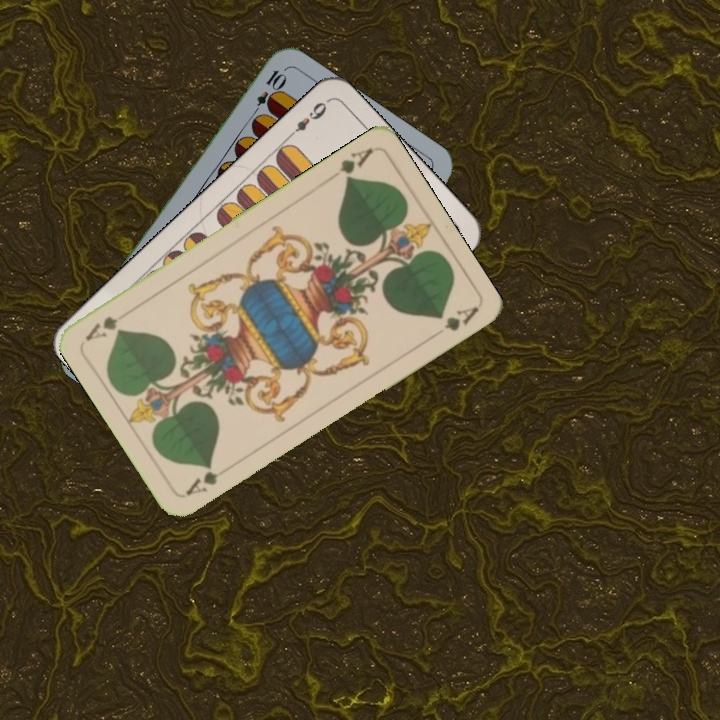E10: (247, 65, 288, 121)
E9: (283, 98, 330, 141)
GA: (323, 143, 376, 186), (181, 462, 221, 499)
